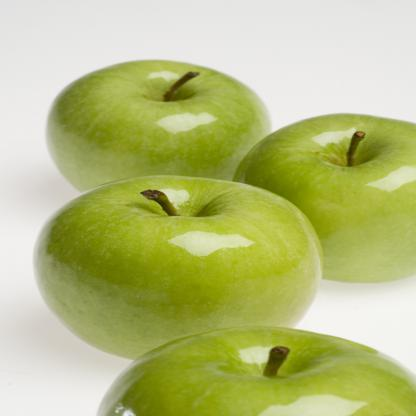Apple: (32, 174, 323, 361), (231, 112, 416, 284), (43, 58, 269, 192), (96, 325, 416, 416)
